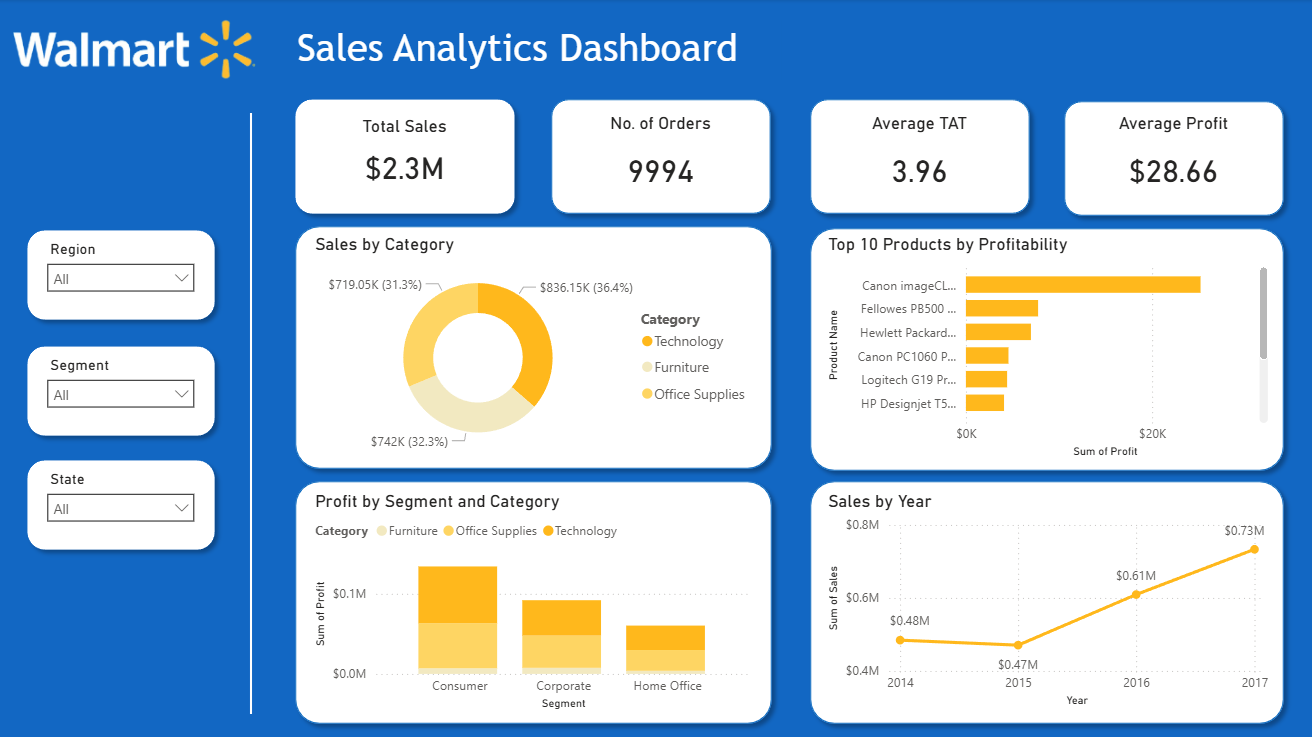

Layout of this report page (visuals, bound fields, positions):
{"tool":"powerbi","page":{"name":"Dashboard","canvas":[1280,720],"ordinal":0},"visuals":[{"type":"image","box":[0,0,278.2,91.4],"z":0},{"type":"group","id":"g1","title":"Group 1","box":[278.2,88.5,231.4,129.3],"z":1000,"group":"g13"},{"type":"shape","box":[278.2,88.5,231.4,129.3],"z":1000,"group":"g1"},{"type":"group","id":"g2","title":"Group 3","box":[278.2,212,481.5,253.9],"z":1000},{"type":"shape","box":[17.5,215.9,200.4,105],"z":1000,"group":"g6"},{"type":"shape","box":[17.5,328.8,200.4,105],"z":1000,"group":"g9"},{"type":"shape","box":[17.5,439.6,200.4,105],"z":1000,"group":"g11"},{"type":"group","id":"g3","title":"Group 2","box":[527.1,88.5,231.4,129.3],"z":2000,"group":"g13"},{"type":"shape","box":[527.1,88.5,231.4,129.3],"z":2000,"group":"g3"},{"type":"shape","box":[778.7,88.5,231.4,129.3],"z":2000,"group":"g4"},{"type":"shape","box":[1026.2,90.5,231.4,129.3],"z":2000,"group":"g10"},{"type":"shape","box":[233.4,98.2,21.4,597.2],"z":2000},{"type":"slicer","fields":{"Values":["Customers.Region"]},"box":[36,229.5,163.4,76.8],"z":2000,"group":"g6"},{"type":"slicer","fields":{"Values":["Customers.Region"]},"box":[36,342.4,163.4,76.8],"z":2000,"group":"g9"},{"type":"slicer","fields":{"Values":["Customers.Region"]},"box":[36,453.2,163.4,76.8],"z":2000,"group":"g11"},{"type":"shape","box":[278.2,460.1,481.5,253.9],"z":3000},{"type":"group","id":"g4","title":"Group 2","box":[778.7,88.5,231.4,129.3],"z":4000,"group":"g13"},{"type":"card","title":"Total Sales","fields":{"Values":["Sum(Orders.Sales)"]},"box":[294.6,113.7,197.8,78.7],"z":4000,"group":"g1"},{"type":"group","id":"g5","title":"Group 5","box":[301.5,478.5,433.8,216.9],"z":4000},{"type":"card","title":"No. of Orders","fields":{"Values":["Orders.NumOrders"]},"box":[554,111,176.2,90],"z":5000,"group":"g3"},{"type":"card","title":"Average TAT","fields":{"Values":["Orders.AvgTAT"]},"box":[805.6,111,176.2,90],"z":5000,"group":"g4"},{"type":"group","id":"g6","title":"Group 6","box":[17.5,215.9,200.4,105],"z":5000},{"type":"shape","box":[278.2,212,481.5,253.9],"z":5500,"group":"g2"},{"type":"shape","box":[779.1,214,478.5,253.9],"z":5500,"group":"g8"},{"type":"group","id":"g7","title":"Group 3","box":[779.1,460.1,478.5,253.9],"z":5500},{"type":"shape","box":[779.1,460.1,478.5,253.9],"z":5500,"group":"g7"},{"type":"group","id":"g8","title":"Group 3","box":[779.1,214,478.5,253.9],"z":6000},{"type":"donutChart","title":"Sales by Category","fields":{"Y":["Sum(Orders.Sales)"],"Category":["Products.Category"]},"box":[301.6,228.5,436.7,221.8],"z":6000,"group":"g2"},{"type":"group","id":"g9","title":"Group 6","box":[17.5,328.8,200.4,105],"z":7000},{"type":"group","id":"g10","title":"Group 2","box":[1026.2,90.5,231.4,129.3],"z":7250,"group":"g14"},{"type":"card","title":"Average Profit","fields":{"Values":["Orders.AvgProfit"]},"box":[1053.1,110.7,176.2,90],"z":7500,"group":"g14"},{"type":"group","id":"g11","title":"Group 6","box":[17.5,439.6,200.4,105],"z":8000},{"type":"group","id":"g12","title":"Group 4","box":[800.5,478.5,437.7,214],"z":9000},{"type":"group","id":"g13","title":"Group 8","box":[278.2,88.5,979.5,131.3],"z":10000},{"type":"slicer","fields":{"Values":["Customers.Region"]},"box":[36,229.5,163.4,76.8],"z":10000,"group":"g6"},{"type":"slicer","fields":{"Values":["Customers.Segment"]},"box":[36,342.4,163.4,76.8],"z":10000,"group":"g9"},{"type":"slicer","fields":{"Values":["Customers.State"]},"box":[36,453.2,163.4,76.8],"z":10000,"group":"g11"},{"type":"group","id":"g14","title":"Group 7","box":[1026.2,90.5,231.4,129.3],"z":11000,"group":"g13"},{"type":"textbox","box":[294.7,16.5,451.3,58.4],"z":12000},{"type":"columnChart","title":"Profit by Segment and Category","fields":{"Category":["Customers.Segment"],"Y":["Sum(Orders.Profit)"],"Series":["Products.Category"]},"box":[301.5,478.5,433.8,216.9],"z":12000,"group":"g5"},{"type":"clusteredBarChart","title":"Average Turnaround Time by Region","fields":{"Category":["Products.Product Name"],"Y":["Sum(Orders.Profit)"]},"box":[798.5,228.6,439.6,221.8],"z":13000},{"type":"lineChart","title":"Sales by Year","fields":{"Category":["Orders.Order Date.Variation.Date Hierarchy.Year"],"Y":["Sum(Orders.Sales)"]},"box":[800.5,478.5,437.7,214],"z":13000,"group":"g12"}]}

Visuals, with their boxes in screenshot pixels (x1, y1, x2, y2), scaled from the page's 1280x720 canvas onto the 1312x737 screenshot:
image: <region>0, 0, 285, 94</region>
"Group 1" group: <region>285, 91, 522, 223</region>
shape: <region>285, 91, 522, 223</region>
"Group 3" group: <region>285, 217, 779, 477</region>
shape: <region>18, 221, 223, 328</region>
shape: <region>18, 337, 223, 444</region>
shape: <region>18, 450, 223, 557</region>
"Group 2" group: <region>540, 91, 777, 223</region>
shape: <region>540, 91, 777, 223</region>
shape: <region>798, 91, 1035, 223</region>
shape: <region>1052, 93, 1289, 225</region>
shape: <region>239, 101, 261, 712</region>
slicer - Customers.Region: <region>37, 235, 204, 314</region>
slicer - Customers.Region: <region>37, 350, 204, 429</region>
slicer - Customers.Region: <region>37, 464, 204, 543</region>
shape: <region>285, 471, 779, 731</region>
"Group 2" group: <region>798, 91, 1035, 223</region>
"Total Sales" card: <region>302, 116, 505, 197</region>
"Group 5" group: <region>309, 490, 754, 712</region>
"No. of Orders" card: <region>568, 114, 748, 206</region>
"Average TAT" card: <region>826, 114, 1006, 206</region>
"Group 6" group: <region>18, 221, 223, 328</region>
shape: <region>285, 217, 779, 477</region>
shape: <region>799, 219, 1289, 479</region>
"Group 3" group: <region>799, 471, 1289, 731</region>
shape: <region>799, 471, 1289, 731</region>
"Group 3" group: <region>799, 219, 1289, 479</region>
"Sales by Category" donutChart: <region>309, 234, 757, 461</region>
"Group 6" group: <region>18, 337, 223, 444</region>
"Group 2" group: <region>1052, 93, 1289, 225</region>
"Average Profit" card: <region>1079, 113, 1260, 205</region>
"Group 6" group: <region>18, 450, 223, 557</region>
"Group 4" group: <region>821, 490, 1269, 709</region>
"Group 8" group: <region>285, 91, 1289, 225</region>
slicer - Customers.Region: <region>37, 235, 204, 314</region>
slicer - Customers.Segment: <region>37, 350, 204, 429</region>
slicer - Customers.State: <region>37, 464, 204, 543</region>
"Group 7" group: <region>1052, 93, 1289, 225</region>
textbox: <region>302, 17, 765, 77</region>
"Profit by Segment and Category" columnChart: <region>309, 490, 754, 712</region>
"Average Turnaround Time by Region" clusteredBarChart: <region>818, 234, 1269, 461</region>
"Sales by Year" lineChart: <region>821, 490, 1269, 709</region>
